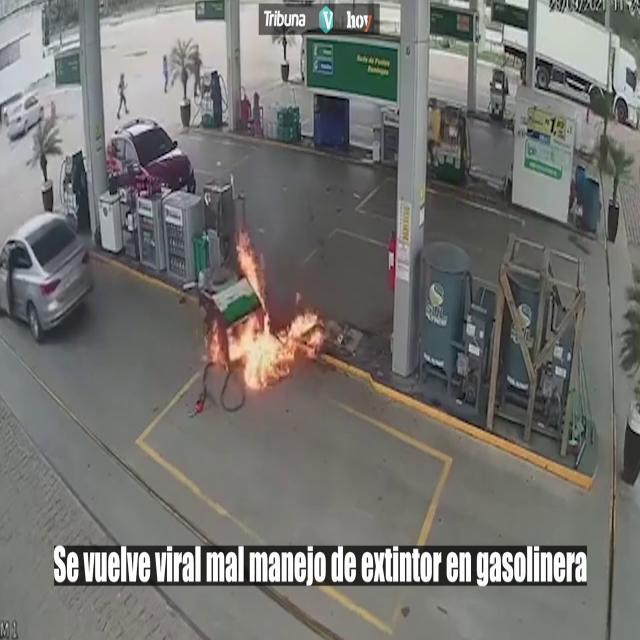Fire: (211, 236, 329, 392)
Smoke: (226, 130, 348, 300)
